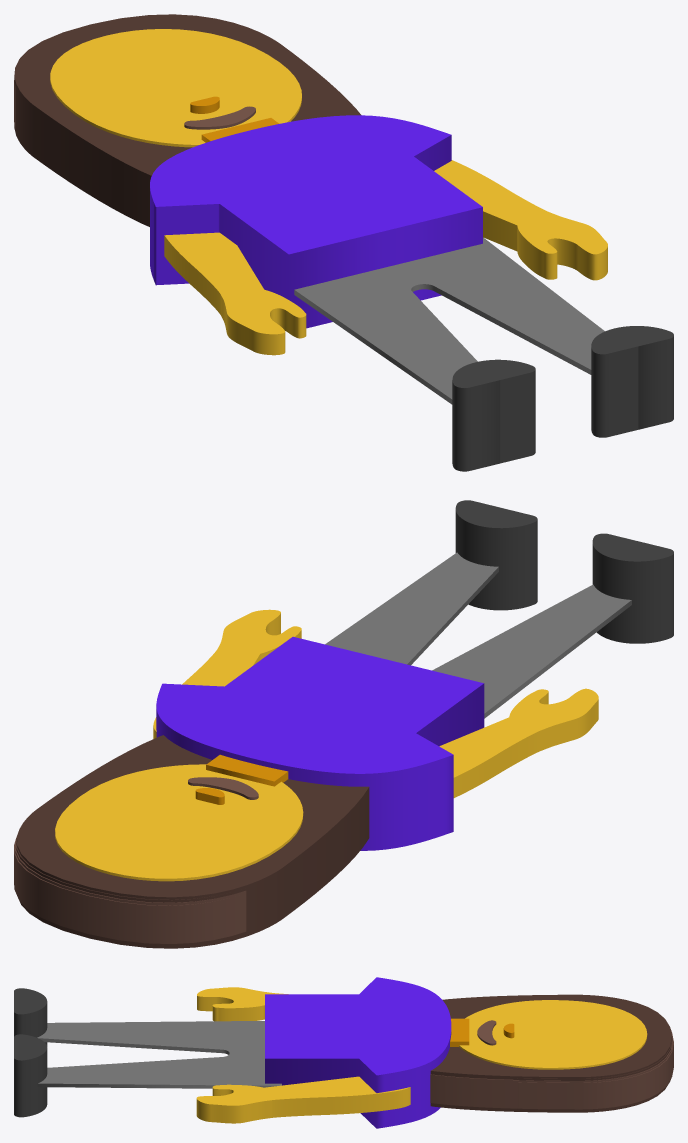
Rendered from emoji_u1f9cd_200d_2640.glb.
3 renders of one model, top to bottom at view 1: azimuth 30°, elevation 25°; view 2: azimuth 150°, elevation 25°; view 3: azimuth 270°, elevation 25°, orthographic. The views are drawn at different scales.
Visible parts, largest first — view 1: emoji_u1f9cd_200d_2640; view 2: emoji_u1f9cd_200d_2640; view 3: emoji_u1f9cd_200d_2640.
Part boxes in pixels (x1,y1,x2,y2): emoji_u1f9cd_200d_2640: [14, 14, 673, 471]; emoji_u1f9cd_200d_2640: [14, 500, 673, 948]; emoji_u1f9cd_200d_2640: [14, 977, 673, 1128].
Size of the model in its own units: 0.0145 by 0.0032 by 0.0337.
